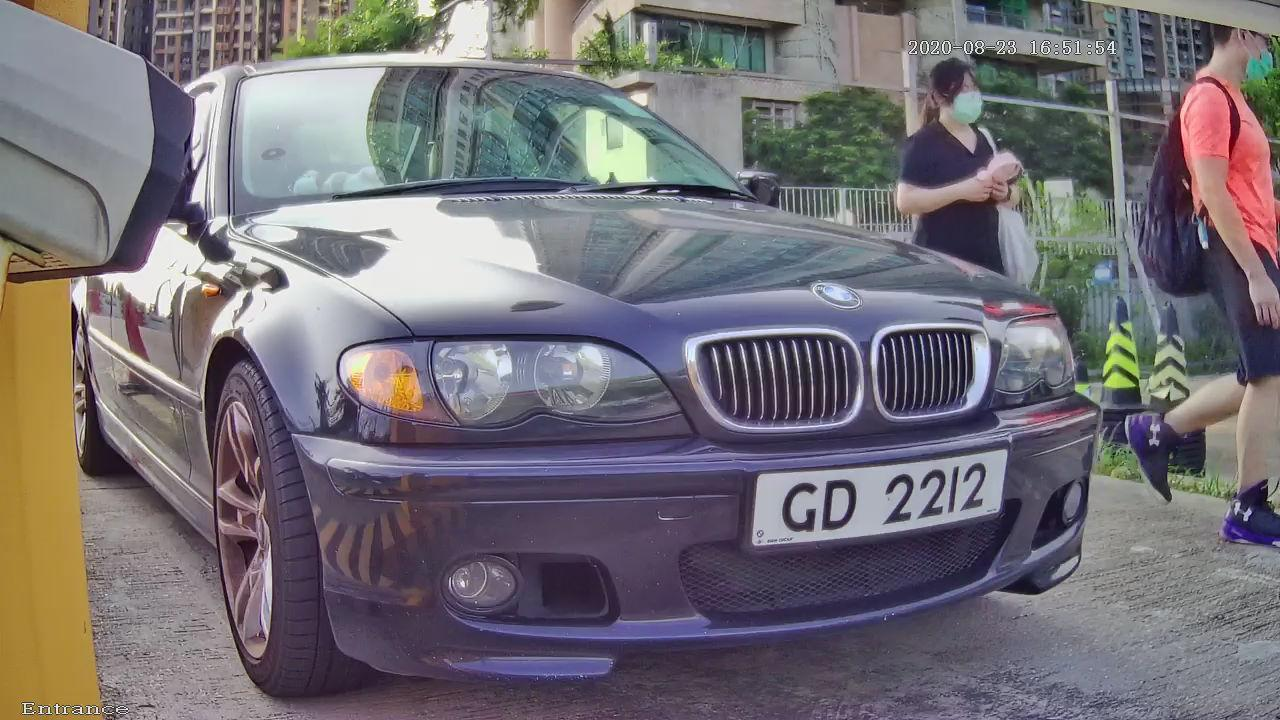Car: (41, 17, 1218, 717)
License Plate: (711, 414, 1064, 584)
